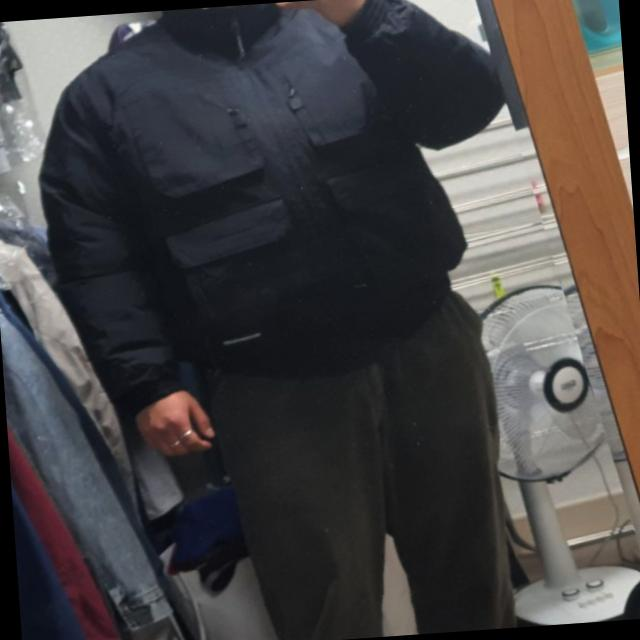cottonpants: (202, 288, 516, 640)
padding: (27, 0, 515, 420)
